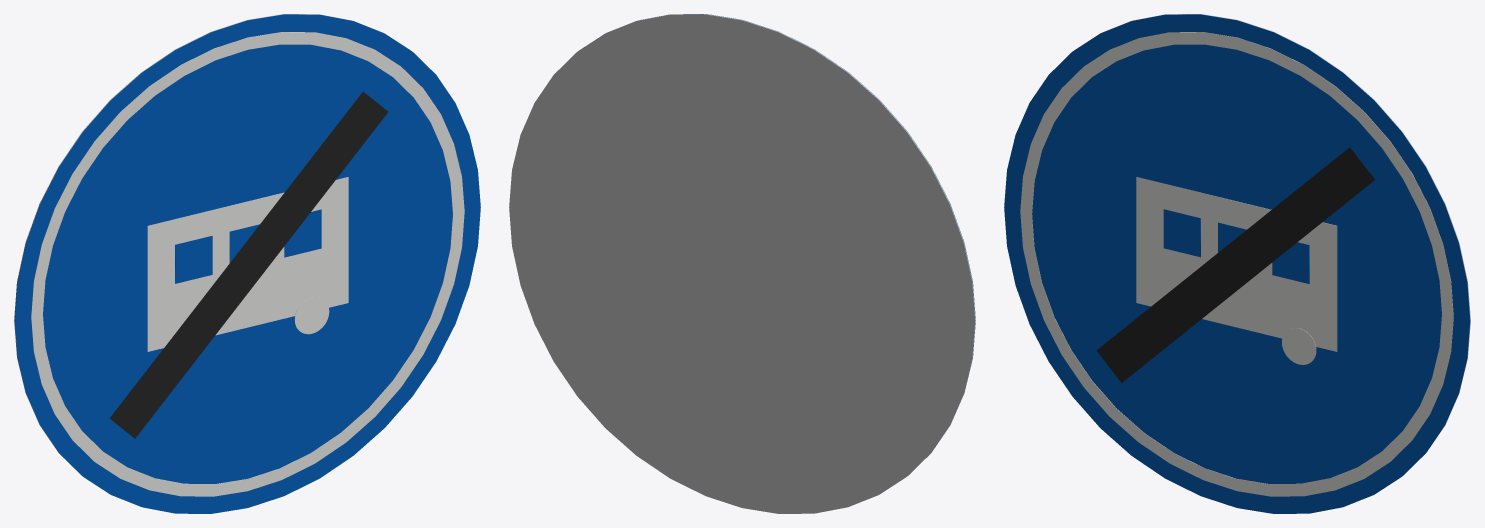
3 renders of one model, left to right at view 1: azimuth 30°, elevation 25°; view 2: azimuth 150°, elevation 25°; view 3: azimuth 330°, elevation 25°, orthographic.
Visible parts, largest first — view 1: B45_d00, B45_o01, B45_p02, B45_p08, B45_p03, B45_p05, B45_d07, B45_dos, B45_p04; view 2: B45_dos; view 3: B45_d00, B45_o01, B45_p02, B45_p08, B45_p03, B45_p05, B45_d07, B45_dos.
Boxes of the visible parts, box(x1,y1,x2,y2) form: B45_d00: box(14, 14, 480, 513); B45_o01: box(31, 32, 464, 496); B45_p02: box(147, 177, 348, 351); B45_p08: box(110, 91, 388, 438); B45_p03: box(175, 236, 212, 283); B45_p05: box(284, 209, 321, 257); B45_d07: box(294, 297, 329, 334); B45_dos: box(14, 14, 383, 475); B45_p04: box(229, 224, 259, 262); B45_dos: box(509, 14, 975, 513); B45_d00: box(1004, 14, 1470, 513); B45_o01: box(1020, 32, 1453, 496); B45_p02: box(1136, 177, 1337, 351); B45_p08: box(1096, 147, 1375, 382); B45_p03: box(1163, 209, 1200, 257); B45_p05: box(1272, 242, 1309, 283); B45_d07: box(1282, 328, 1316, 364); B45_dos: box(1101, 14, 1470, 475).
Size of the model in its own units: 0.65 by 0.65 by 0.0049.
